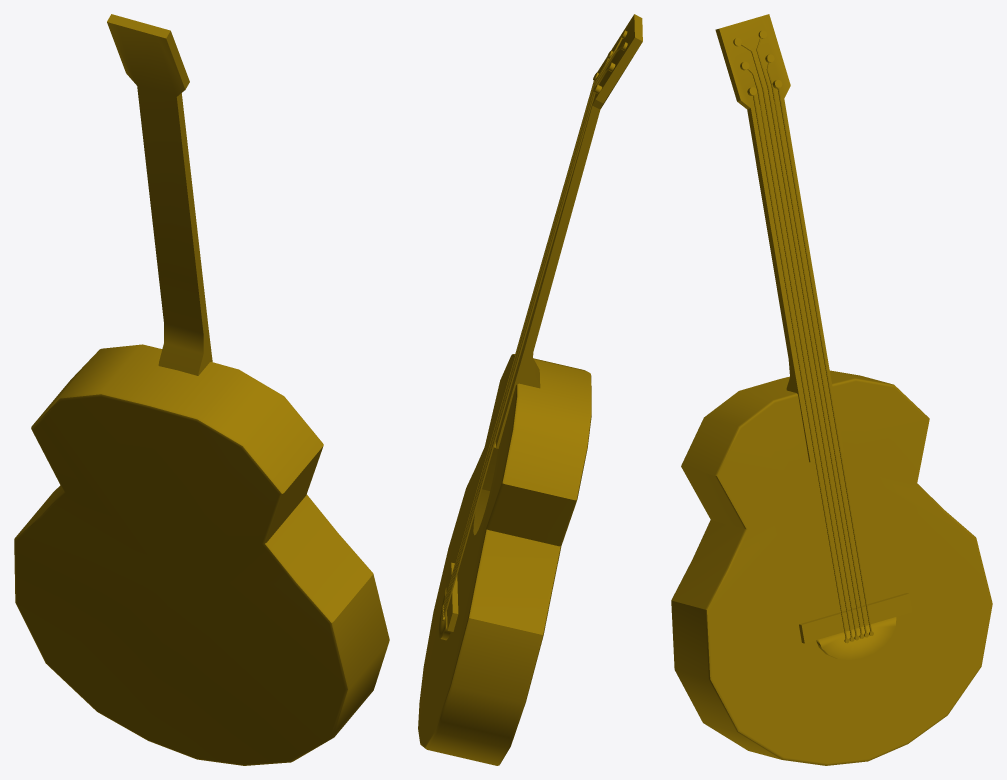
The model's file is Guitar.fbx.
3 views of the same model, side by side, from view 1: azimuth 30°, elevation 25°; view 2: azimuth 150°, elevation 25°; view 3: azimuth 270°, elevation 25° (orthographic). The views are drawn at different scales.
Visible parts, largest first — view 1: PR_Guitarbase, PR_Guitarneck; view 2: PR_Guitarbase, PR_Guitarneck, PR_Guitarstring_06, PR_Guitarstring_04, PR_Guitarstring_01, PR_Guitarstring_03, PR_Stringholder_01, PR_Guitarstring_05, PR_Guitarstring_02; view 3: PR_Guitarbase, PR_Guitarneck, PR_Stringholder_01, PR_Stringholder_02, PR_Guitarstring_04, PR_Guitarstring_03, PR_Guitarstring_02, PR_Guitarstring_05, PR_Guitarstring_06, PR_Guitarstring_01.
Part boxes in pixels (x1,y1,x2,y2): PR_Guitarbase: (14, 344, 389, 765); PR_Guitarneck: (107, 14, 212, 375); PR_Guitarbase: (418, 354, 591, 765); PR_Guitarneck: (495, 14, 642, 448); PR_Guitarstring_06: (443, 92, 595, 617); PR_Guitarstring_04: (443, 47, 621, 612); PR_Guitarstring_01: (443, 80, 594, 605); PR_Guitarstring_03: (443, 37, 622, 609); PR_Stringholder_01: (446, 562, 458, 631); PR_Guitarstring_05: (443, 69, 608, 614); PR_Guitarstring_02: (443, 58, 608, 607); PR_Guitarbase: (671, 370, 992, 765); PR_Guitarneck: (715, 14, 843, 462); PR_Stringholder_01: (799, 593, 912, 643); PR_Stringholder_02: (816, 617, 896, 659); PR_Guitarstring_04: (756, 37, 862, 634); PR_Guitarstring_03: (741, 44, 857, 635); PR_Guitarstring_02: (747, 68, 852, 637); PR_Guitarstring_05: (766, 62, 866, 633); PR_Guitarstring_06: (777, 88, 871, 631); PR_Guitarstring_01: (753, 95, 847, 638).
Bounding box in the file's own units: 111 × 337 × 143.
